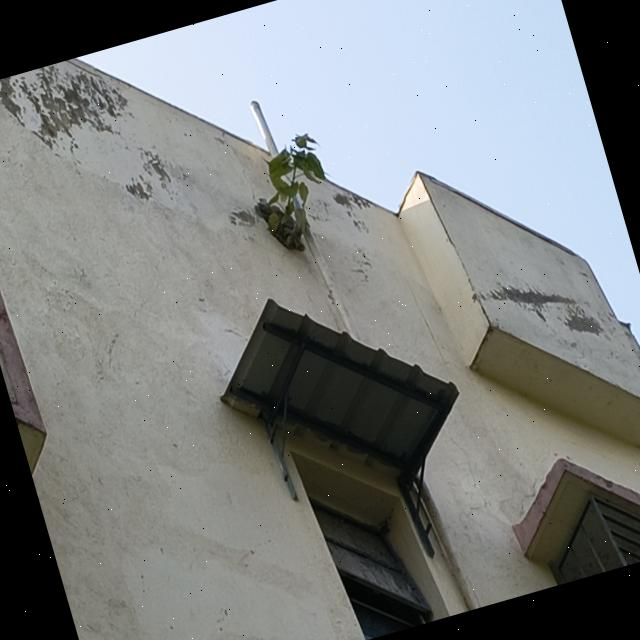peeling: (0, 64, 130, 150), (491, 286, 603, 334), (124, 150, 171, 200), (332, 187, 371, 233), (229, 209, 256, 226)
